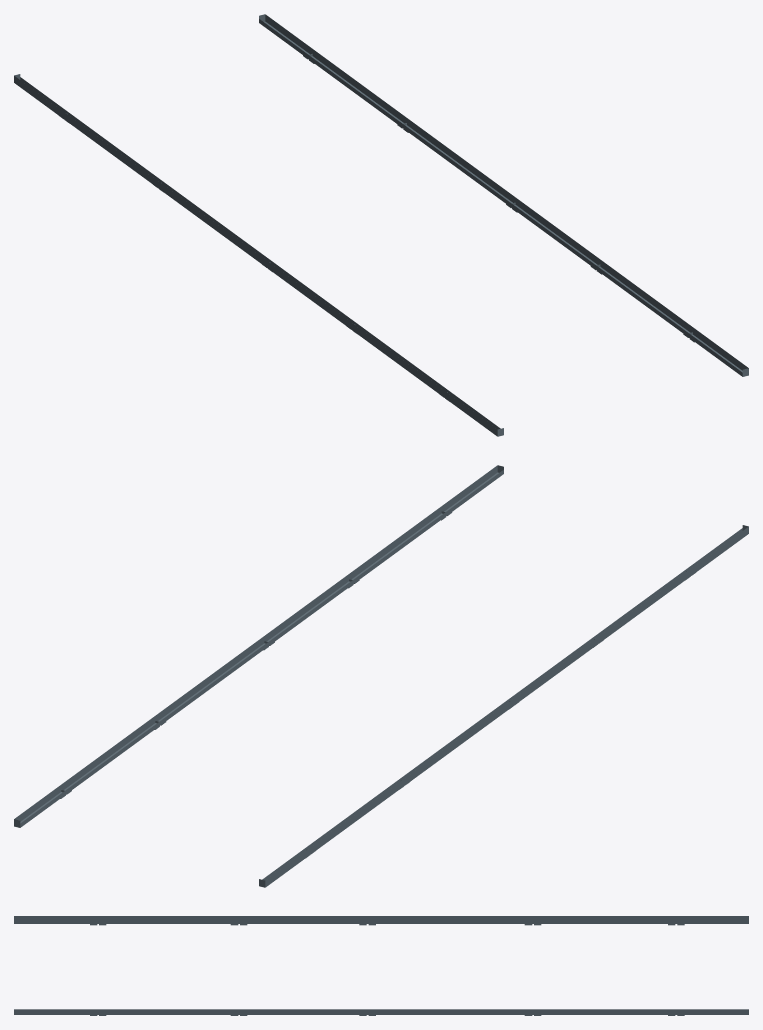
File: talang.glb
The picture shows the model from 3 angles, top to bottom: view 1: azimuth 30°, elevation 25°; view 2: azimuth 150°, elevation 25°; view 3: azimuth 270°, elevation 25°; orthographic projection. The views are drawn at different scales.
Parts seen in each view (by area): view 1: talang; view 2: talang; view 3: talang.
Boxes of the visible parts, box(x1,y1,x2,y2) form: talang: box(14, 14, 748, 436); talang: box(14, 465, 748, 887); talang: box(14, 916, 748, 1015).
Bounding box in the file's own units: 18 × 0.67 × 60.
